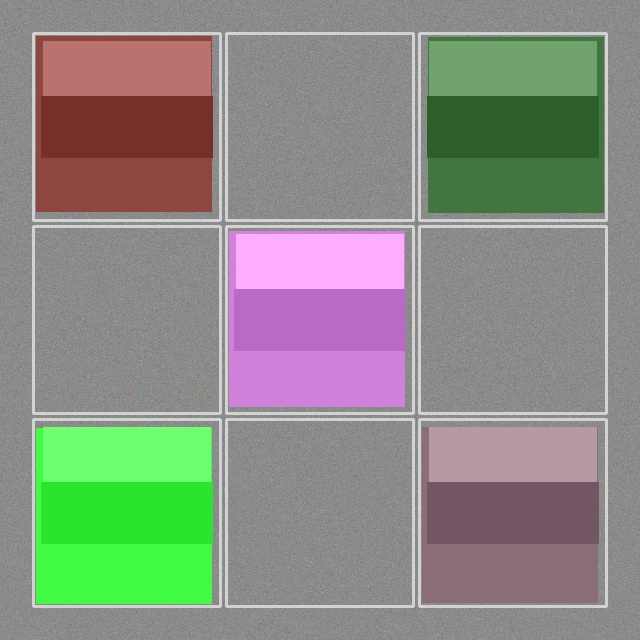space-empty: (228, 35, 411, 218), (35, 228, 218, 411), (421, 228, 604, 411), (228, 421, 411, 604)
space-occupied: (35, 35, 218, 218), (421, 35, 604, 218), (228, 228, 411, 411), (35, 421, 218, 604), (421, 421, 604, 604)
